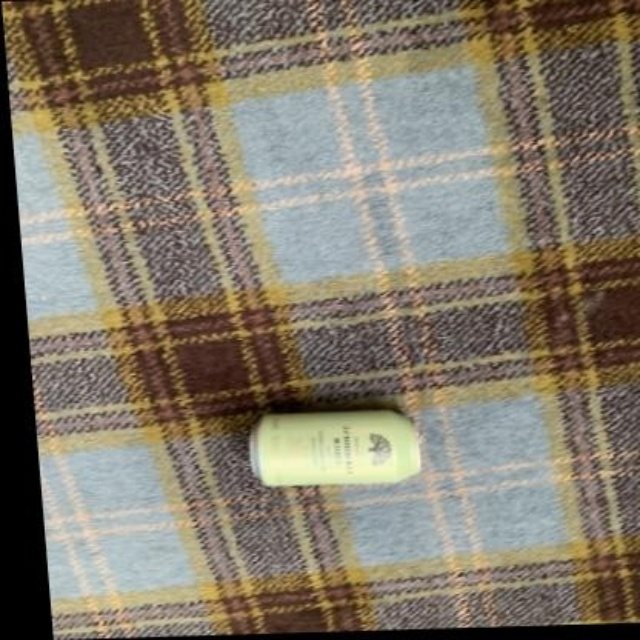trash: (249, 409, 420, 486)
